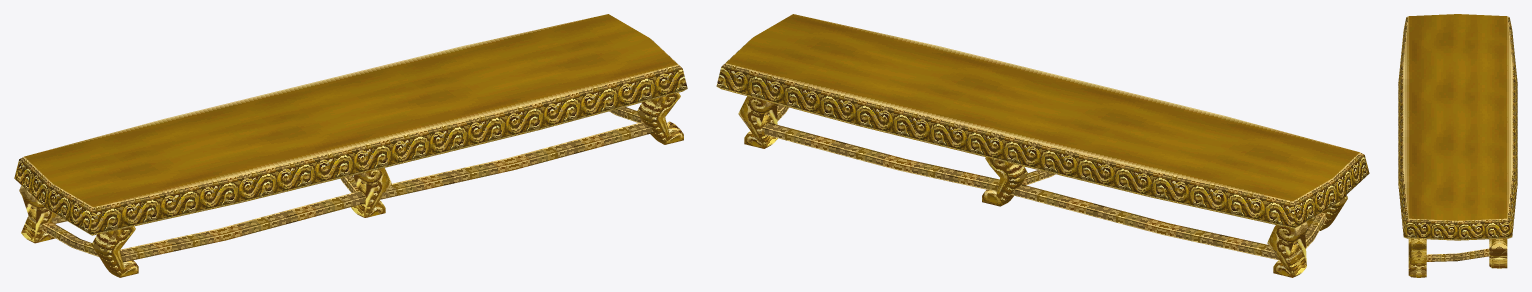
Rendered from desk36.glb.
The picture shows the model from 3 angles, left to right: view 1: azimuth 30°, elevation 25°; view 2: azimuth 150°, elevation 25°; view 3: azimuth 270°, elevation 25°; orthographic projection. The views are drawn at different scales.
Parts seen in each view (by area): view 1: desk36; view 2: desk36; view 3: desk36.
Part boxes in pixels (x1,y1,x2,y2): desk36: [14, 14, 687, 277]; desk36: [716, 14, 1369, 277]; desk36: [1398, 14, 1517, 277].
Bounding box in the file's own units: 970 × 120 × 231.
5 materials, 5 textured.
